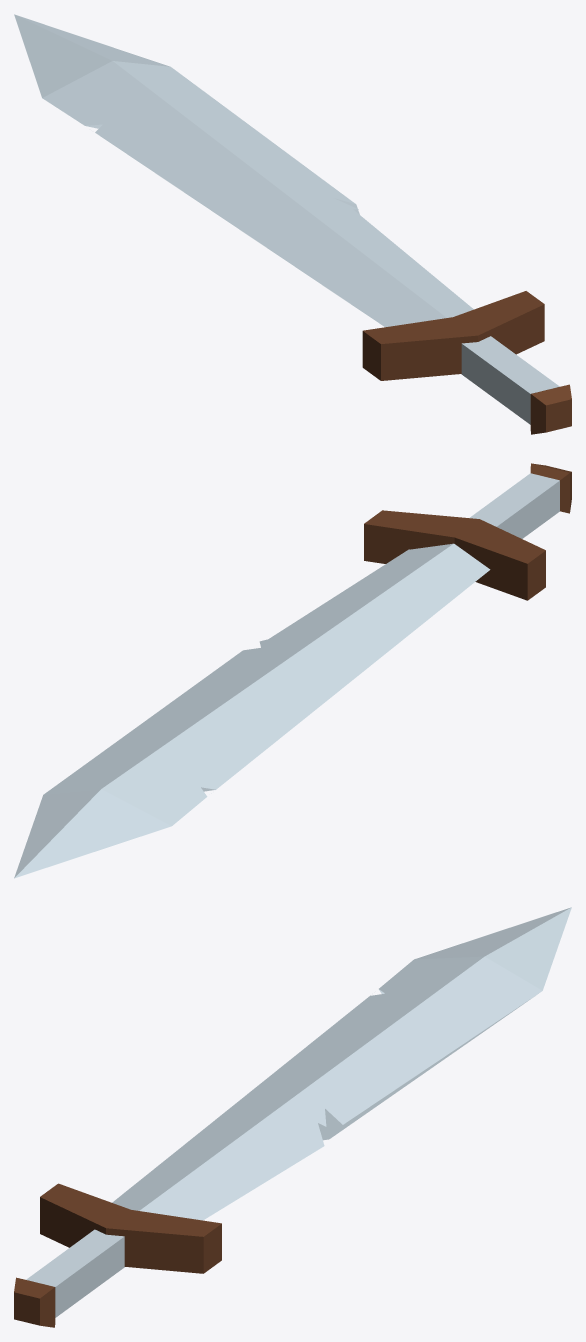
Rendered from SWORD.fbx.
3 renders of one model, top to bottom at view 1: azimuth 30°, elevation 25°; view 2: azimuth 150°, elevation 25°; view 3: azimuth 330°, elevation 25°, orthographic.
Visible parts, largest first — view 1: Kostka.001, Kostka, Kostka.002, Kostka.003; view 2: Kostka.001, Kostka, Kostka.002, Kostka.003; view 3: Kostka.001, Kostka, Kostka.002, Kostka.003.
Part boxes in pixels (left/top/right/bottom): Kostka.001: left=14, top=14, right=473, bottom=327; Kostka: left=362, top=291, right=544, bottom=380; Kostka.002: left=461, top=336, right=559, bottom=424; Kostka.003: left=530, top=384, right=571, bottom=434; Kostka.001: left=14, top=543, right=490, bottom=878; Kostka: left=364, top=510, right=545, bottom=600; Kostka.002: left=469, top=473, right=559, bottom=538; Kostka.003: left=530, top=463, right=571, bottom=513; Kostka.001: left=112, top=907, right=571, bottom=1220; Kostka: left=40, top=1183, right=221, bottom=1273; Kostka.002: left=26, top=1229, right=124, bottom=1317; Kostka.003: left=14, top=1277, right=55, bottom=1327.
Bounding box in the file's own units: 1521 × 383 × 8767.
